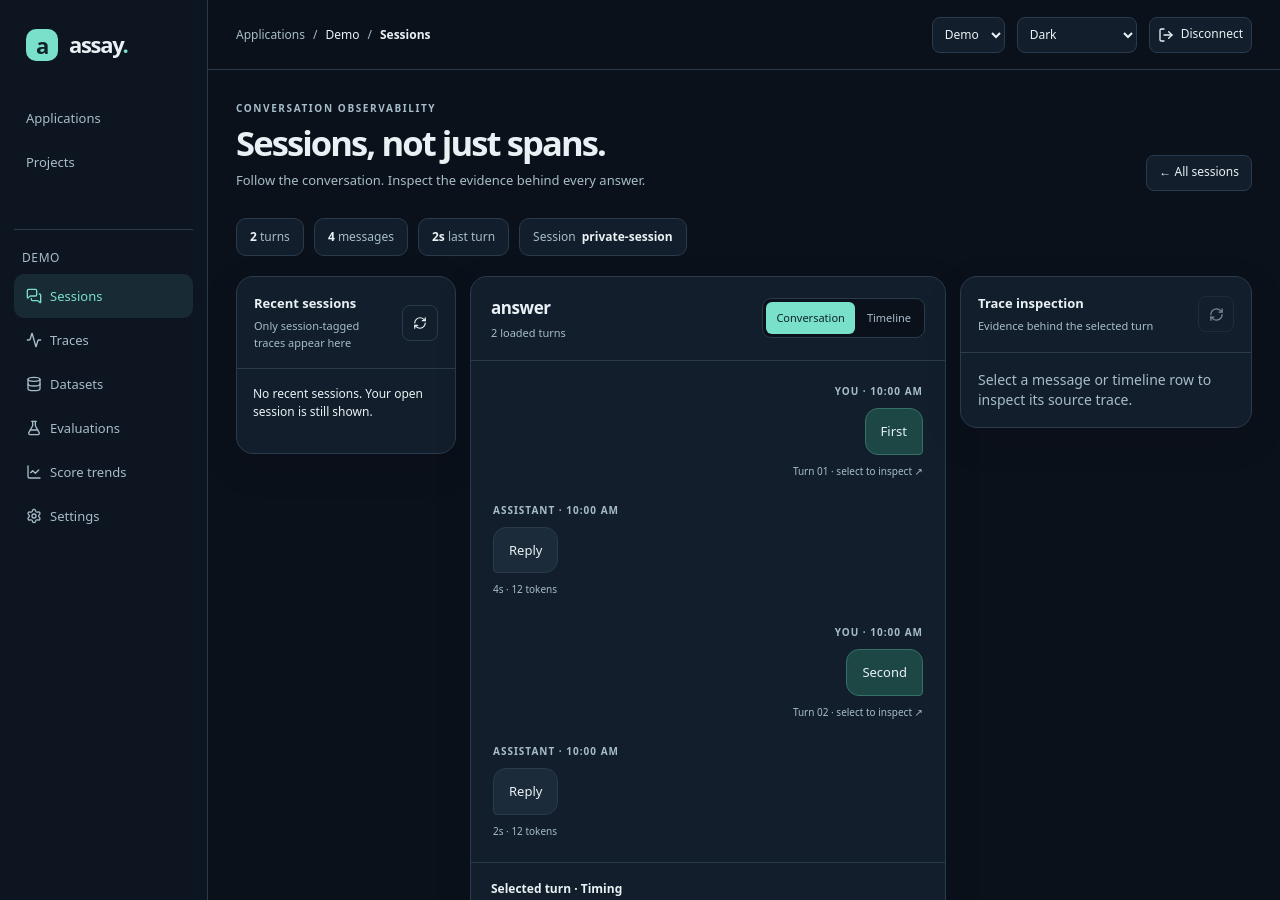
Test: a delayed trace read cannot overwrite a newer selected source
Click the button named "Inspect source for assistant message": click(526, 550) [493,527,558,573]
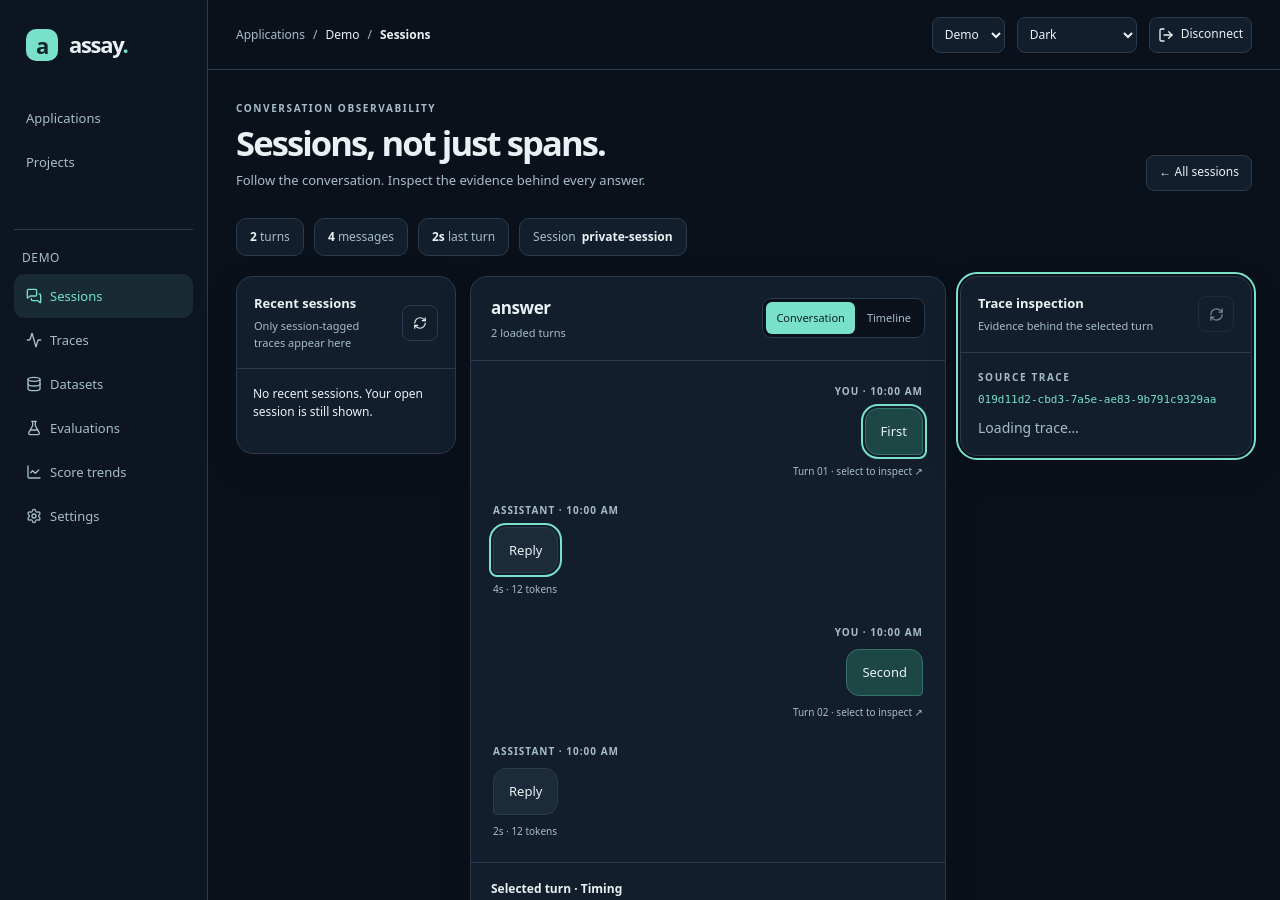
Click the button named "Inspect source for assistant message": click(526, 792) [493,768,558,815]
(page scrolled)
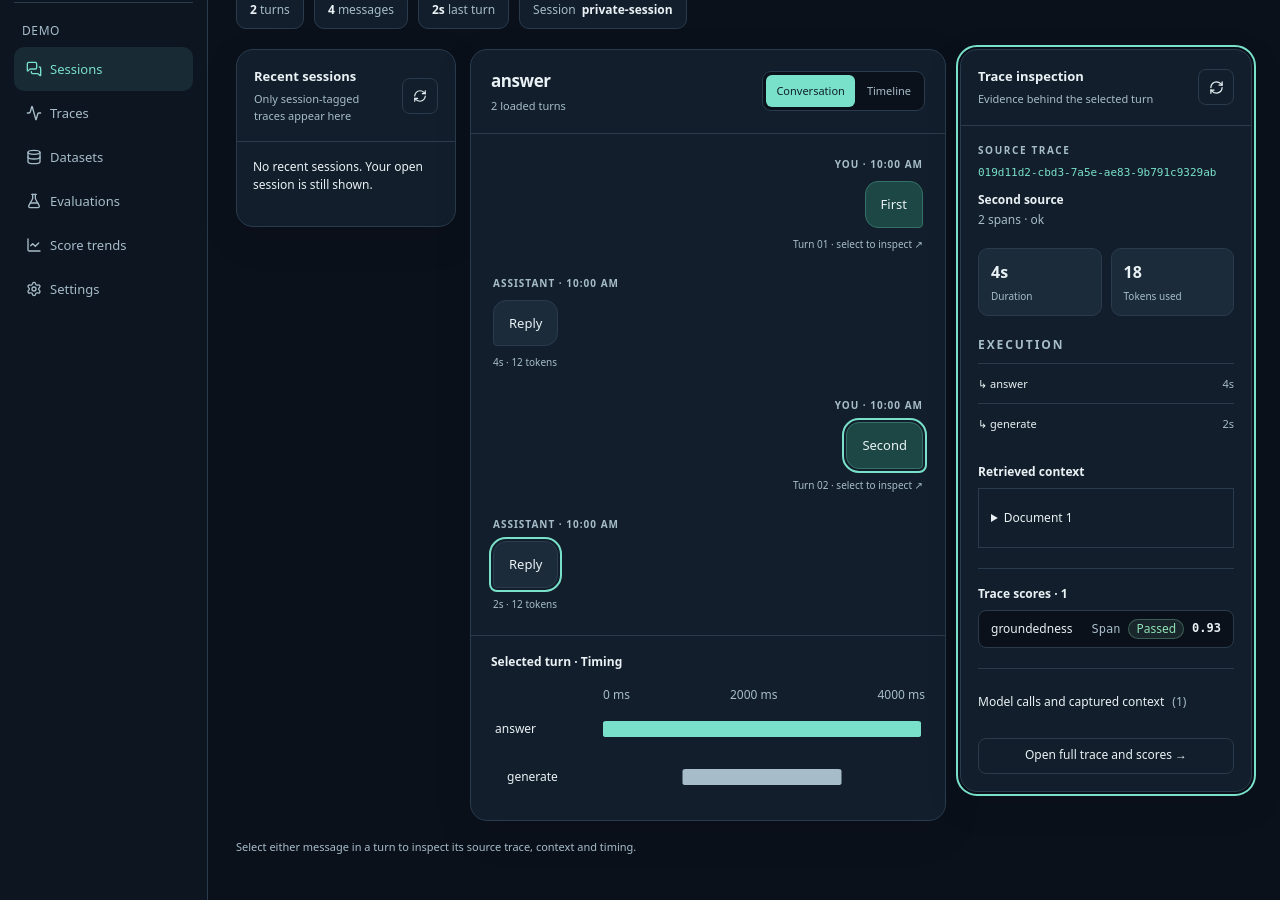
Result: the heading "Second source" is shown at [978,191,1064,208]
